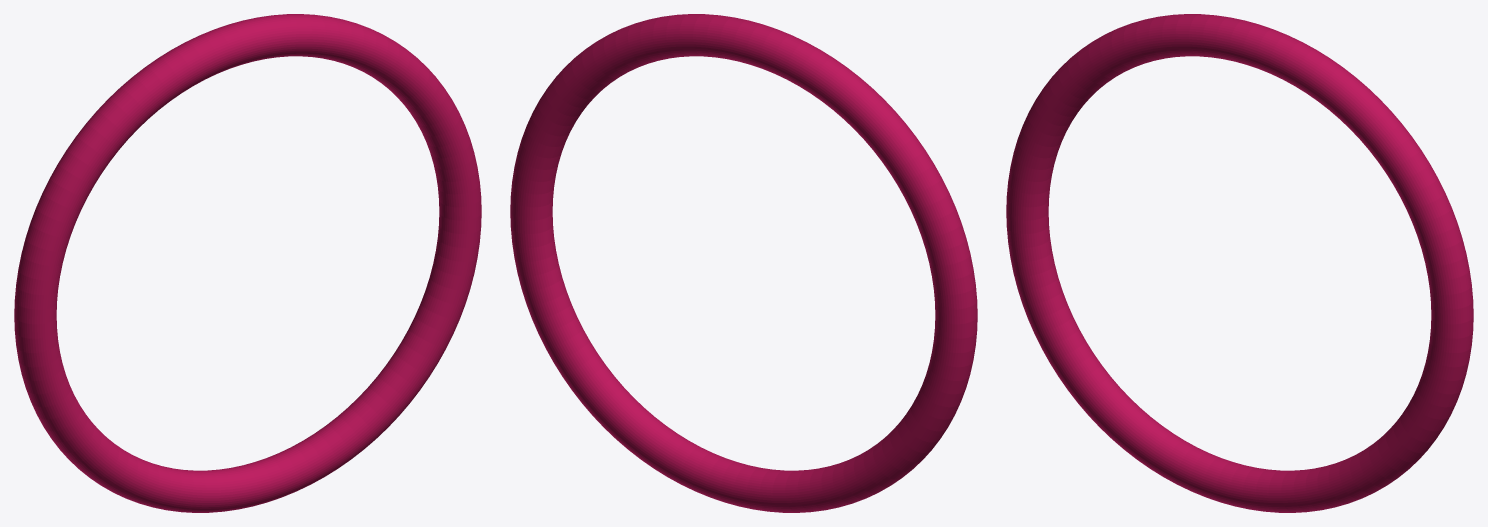
The picture shows the model from 3 angles, left to right: view 1: azimuth 30°, elevation 25°; view 2: azimuth 150°, elevation 25°; view 3: azimuth 330°, elevation 25°; orthographic projection.
Parts seen in each view (by area): view 1: world; view 2: world; view 3: world.
Boxes of the visible parts, <box> form: world: <box>14,14,481,512</box>; world: <box>510,14,977,512</box>; world: <box>1006,14,1473,512</box>.
Size of the model in its own units: 31.87 by 31.87 by 2.53.
